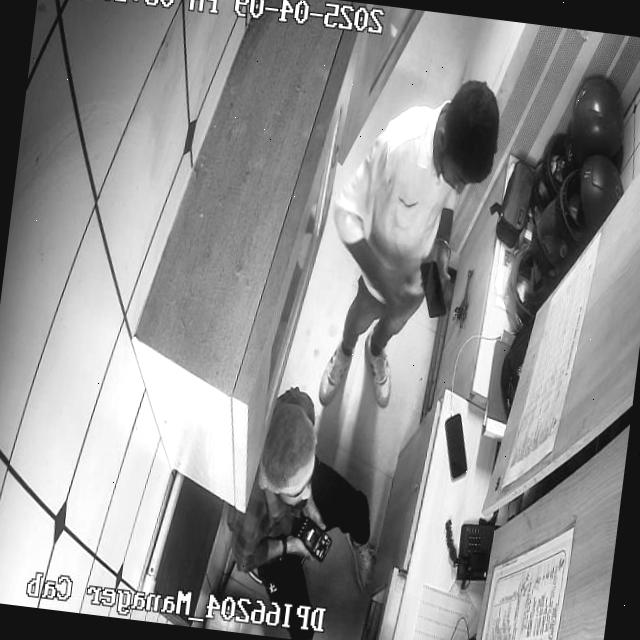helmet: (555, 155, 624, 248)
no_helmet: (432, 79, 500, 193), (258, 387, 318, 511)
